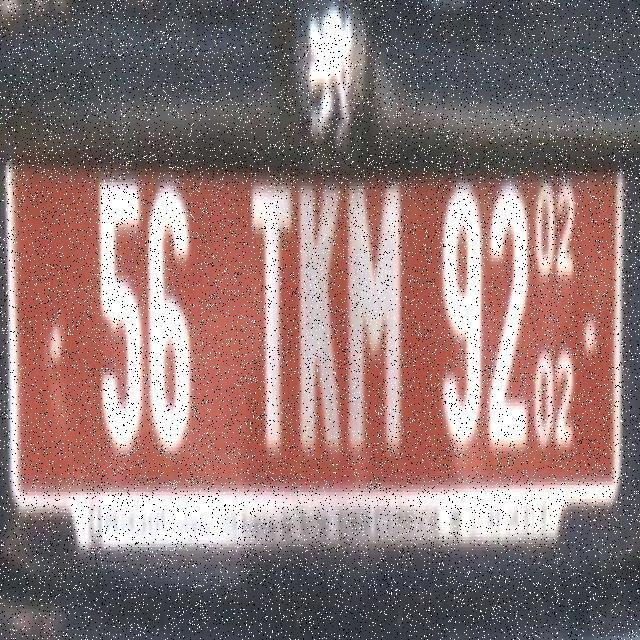LicensePlate: (6, 163, 623, 558)
